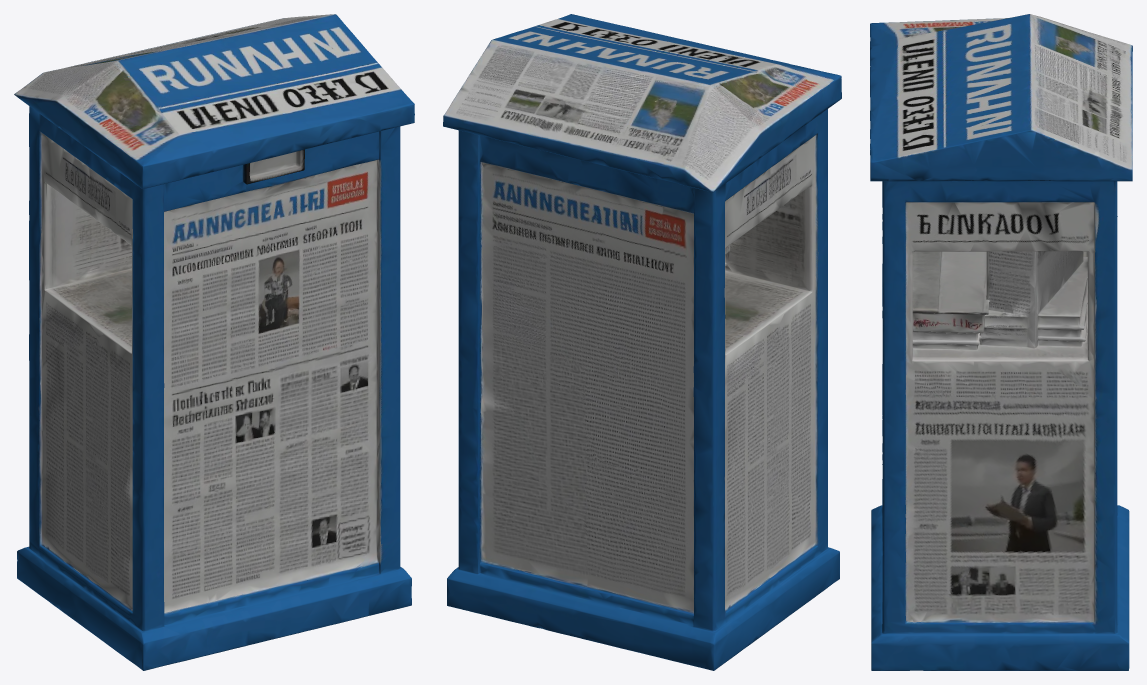
Rendered from newspaper_box.glb.
The picture shows the model from 3 angles, left to right: view 1: azimuth 30°, elevation 25°; view 2: azimuth 150°, elevation 25°; view 3: azimuth 270°, elevation 25°; orthographic projection. The views are drawn at different scales.
Parts seen in each view (by area): view 1: geometry_0; view 2: geometry_0; view 3: geometry_0.
Boxes of the visible parts, x1,y1,x2,y2 form: geometry_0: [14, 14, 414, 670]; geometry_0: [443, 14, 841, 670]; geometry_0: [870, 14, 1132, 670].
Size of the model in its own units: 0.6398 by 1.2 by 0.5194.
Materials: 1 (1 with a texture image).
